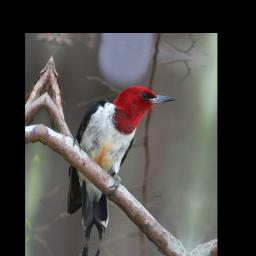Woodpecker: (59, 75, 177, 253)
